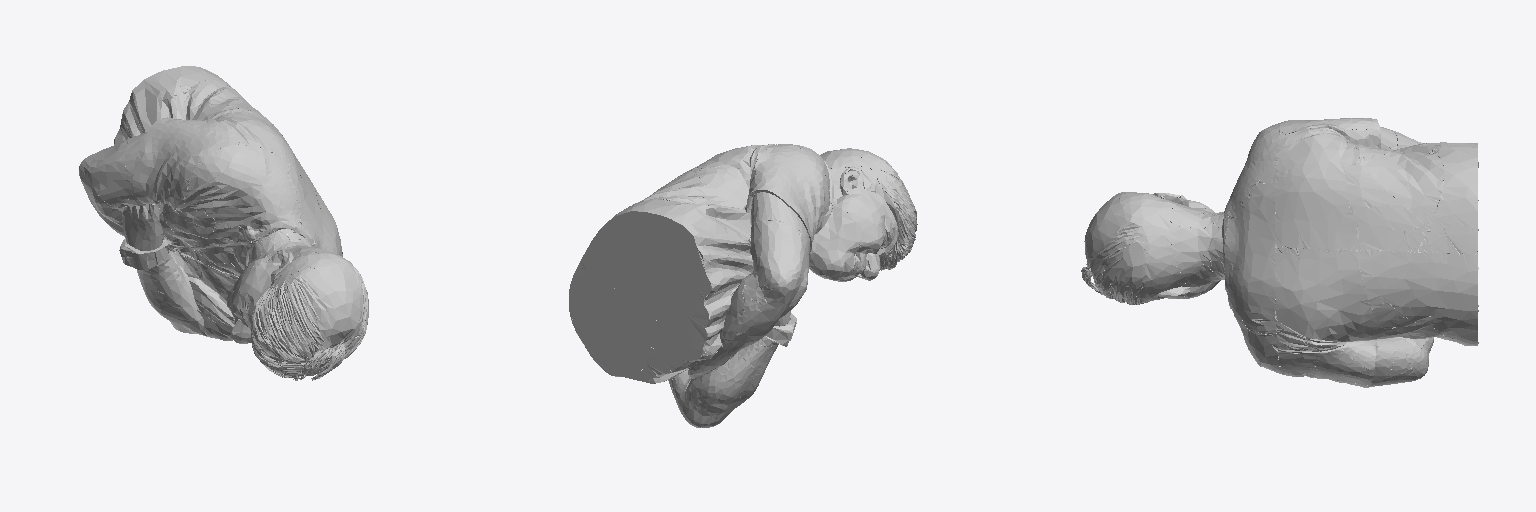
The model's file is CGC.obj.
The picture shows the model from 3 angles: view 1: azimuth 30°, elevation 25°; view 2: azimuth 150°, elevation 25°; view 3: azimuth 270°, elevation 25°; orthographic projection.
Parts seen in each view (by area): view 1: tmp71j8j8_8.obj; view 2: tmp71j8j8_8.obj; view 3: tmp71j8j8_8.obj.
Part boxes in pixels (left/top/right/bottom): tmp71j8j8_8.obj: left=79, top=66, right=368, bottom=380; tmp71j8j8_8.obj: left=569, top=144, right=917, bottom=427; tmp71j8j8_8.obj: left=1081, top=118, right=1478, bottom=387.
Size of the model in its own units: 1.01 by 1.19 by 1.74.